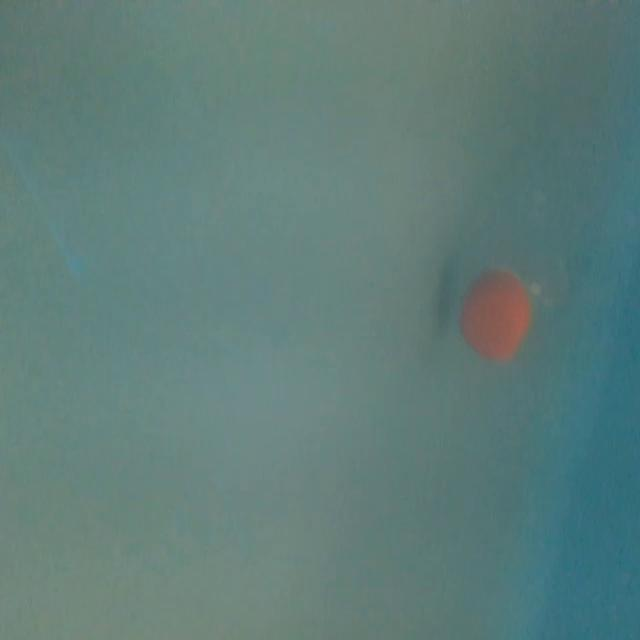plastic bottle: (449, 110, 624, 367)
